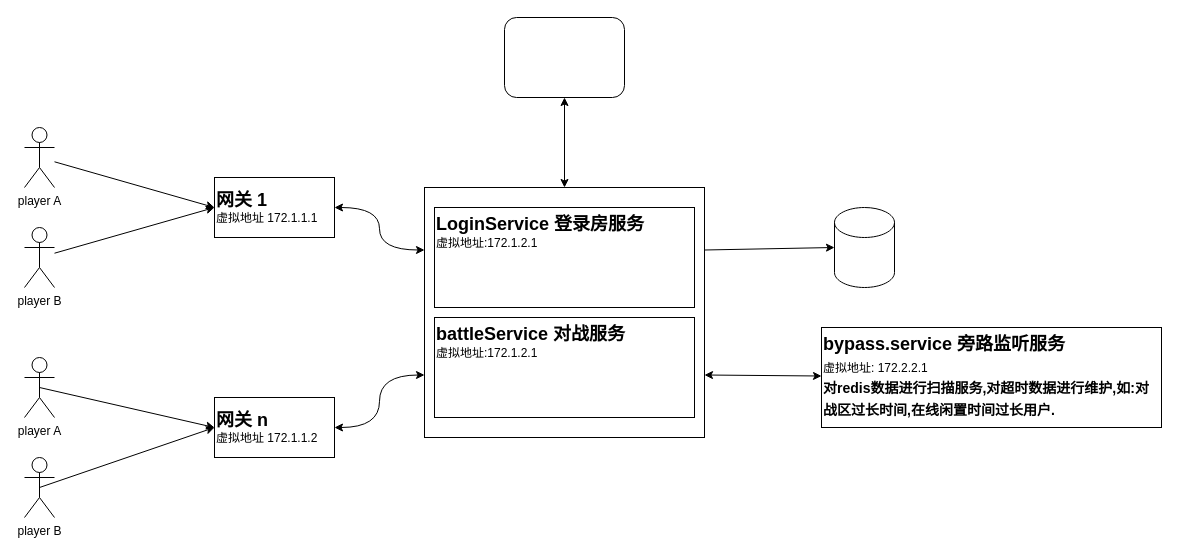
Image size: 1179x556. Some labels were removed from this diagram. Each missing label, with the centre of its shape:
Redis: pixel 864 247
第三方登录验证: pixel 564 57
